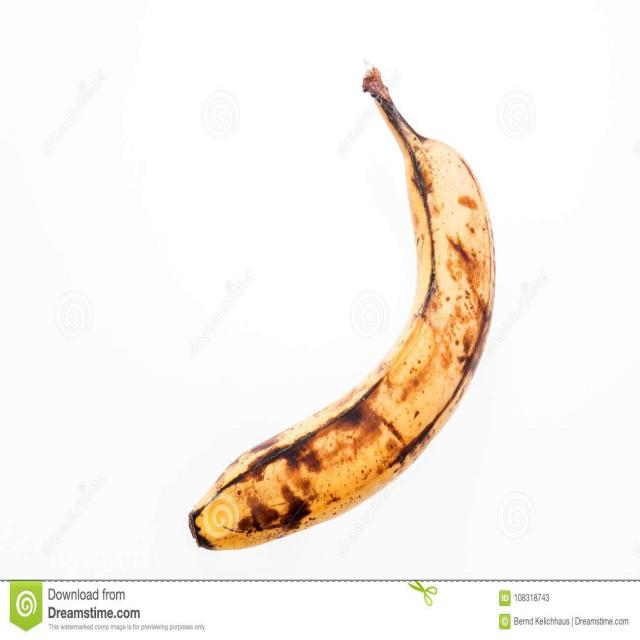Banana: (188, 66, 502, 552)
